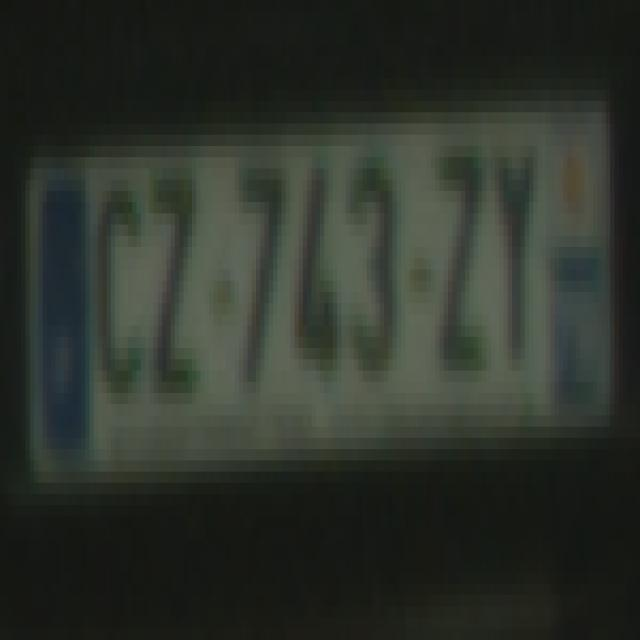Autre: (37, 89, 613, 474)
